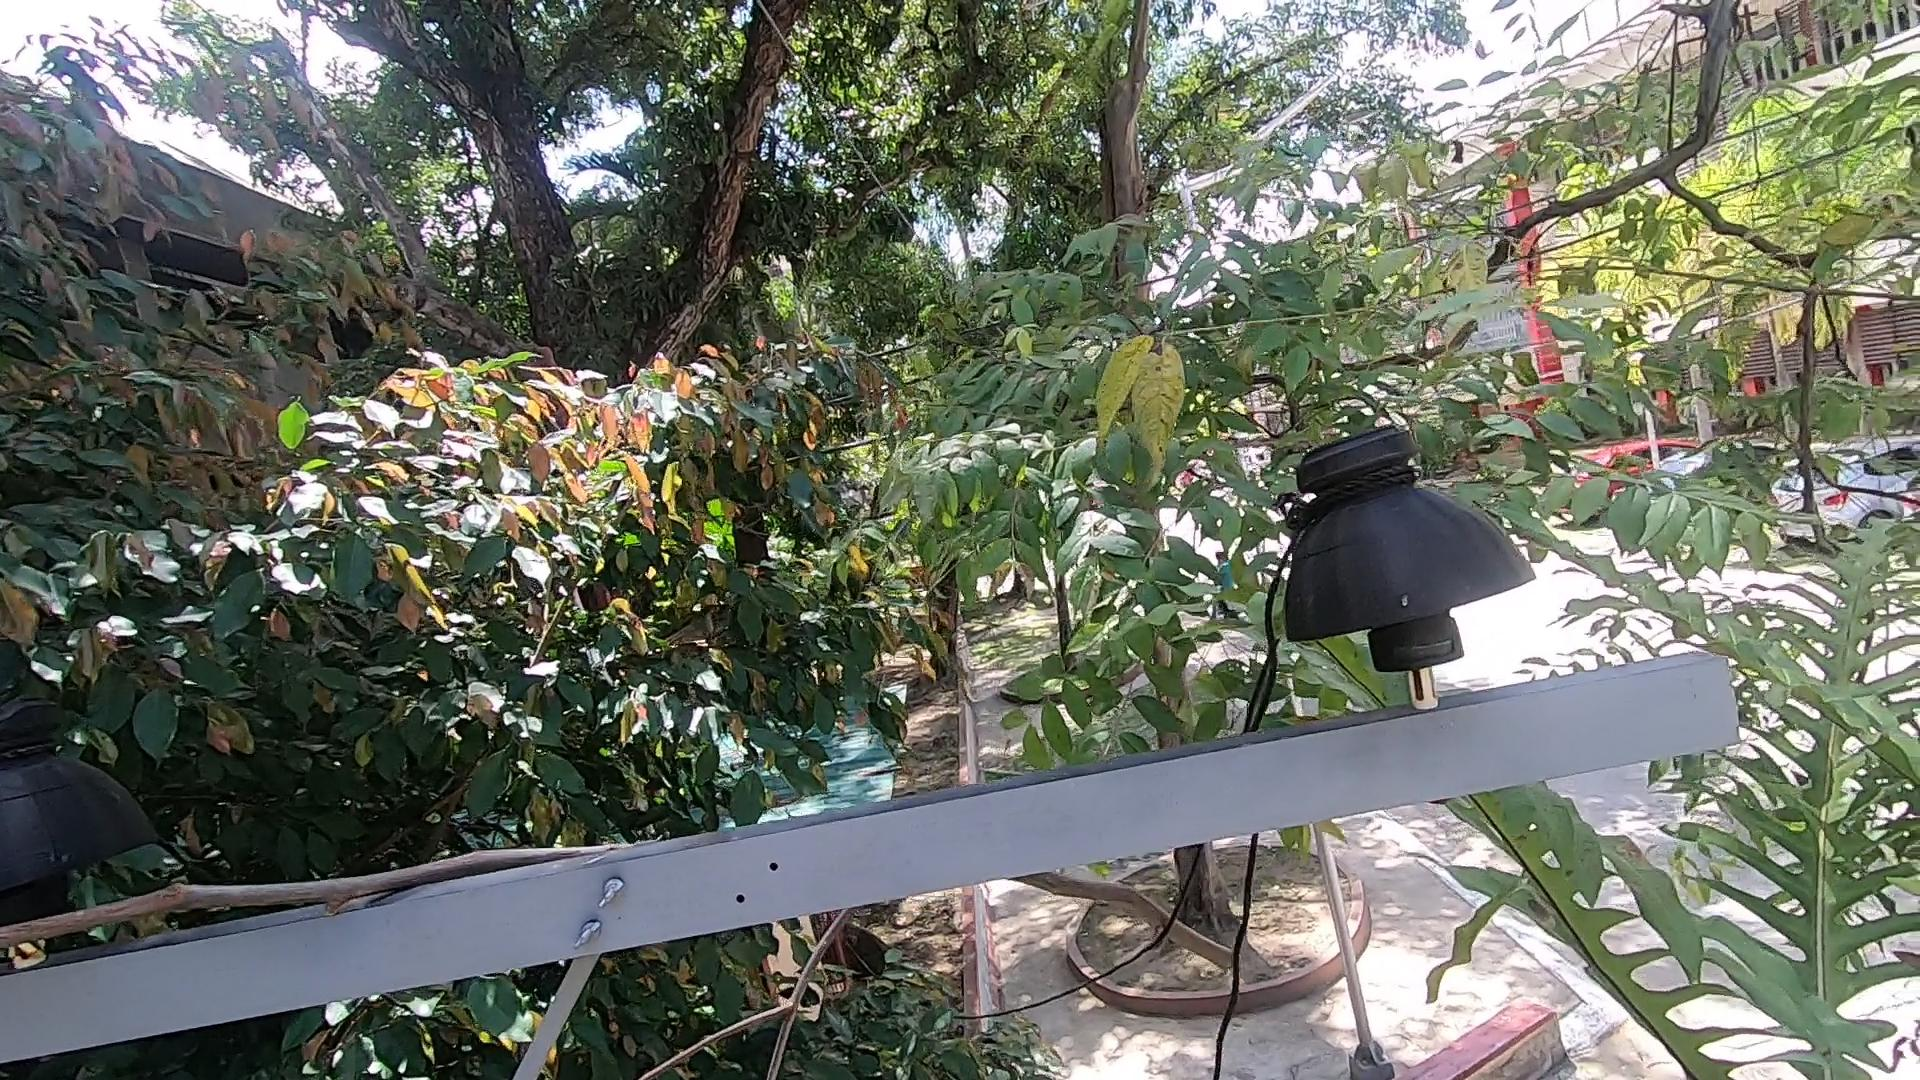tree branch: (1, 828, 650, 975), (625, 916, 851, 1080), (988, 878, 1238, 973)
